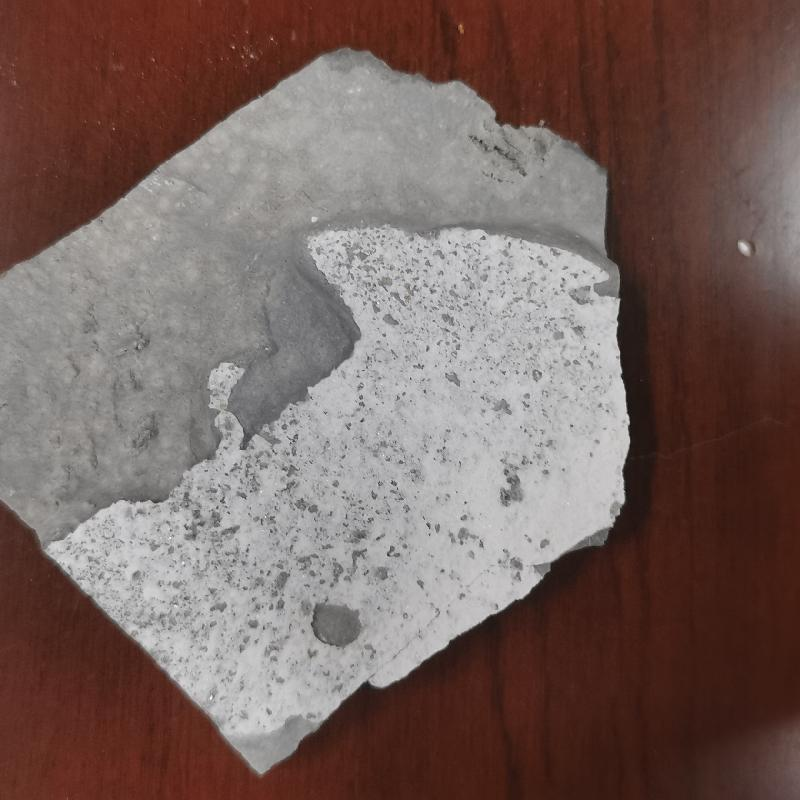tile: (9, 47, 634, 777)
